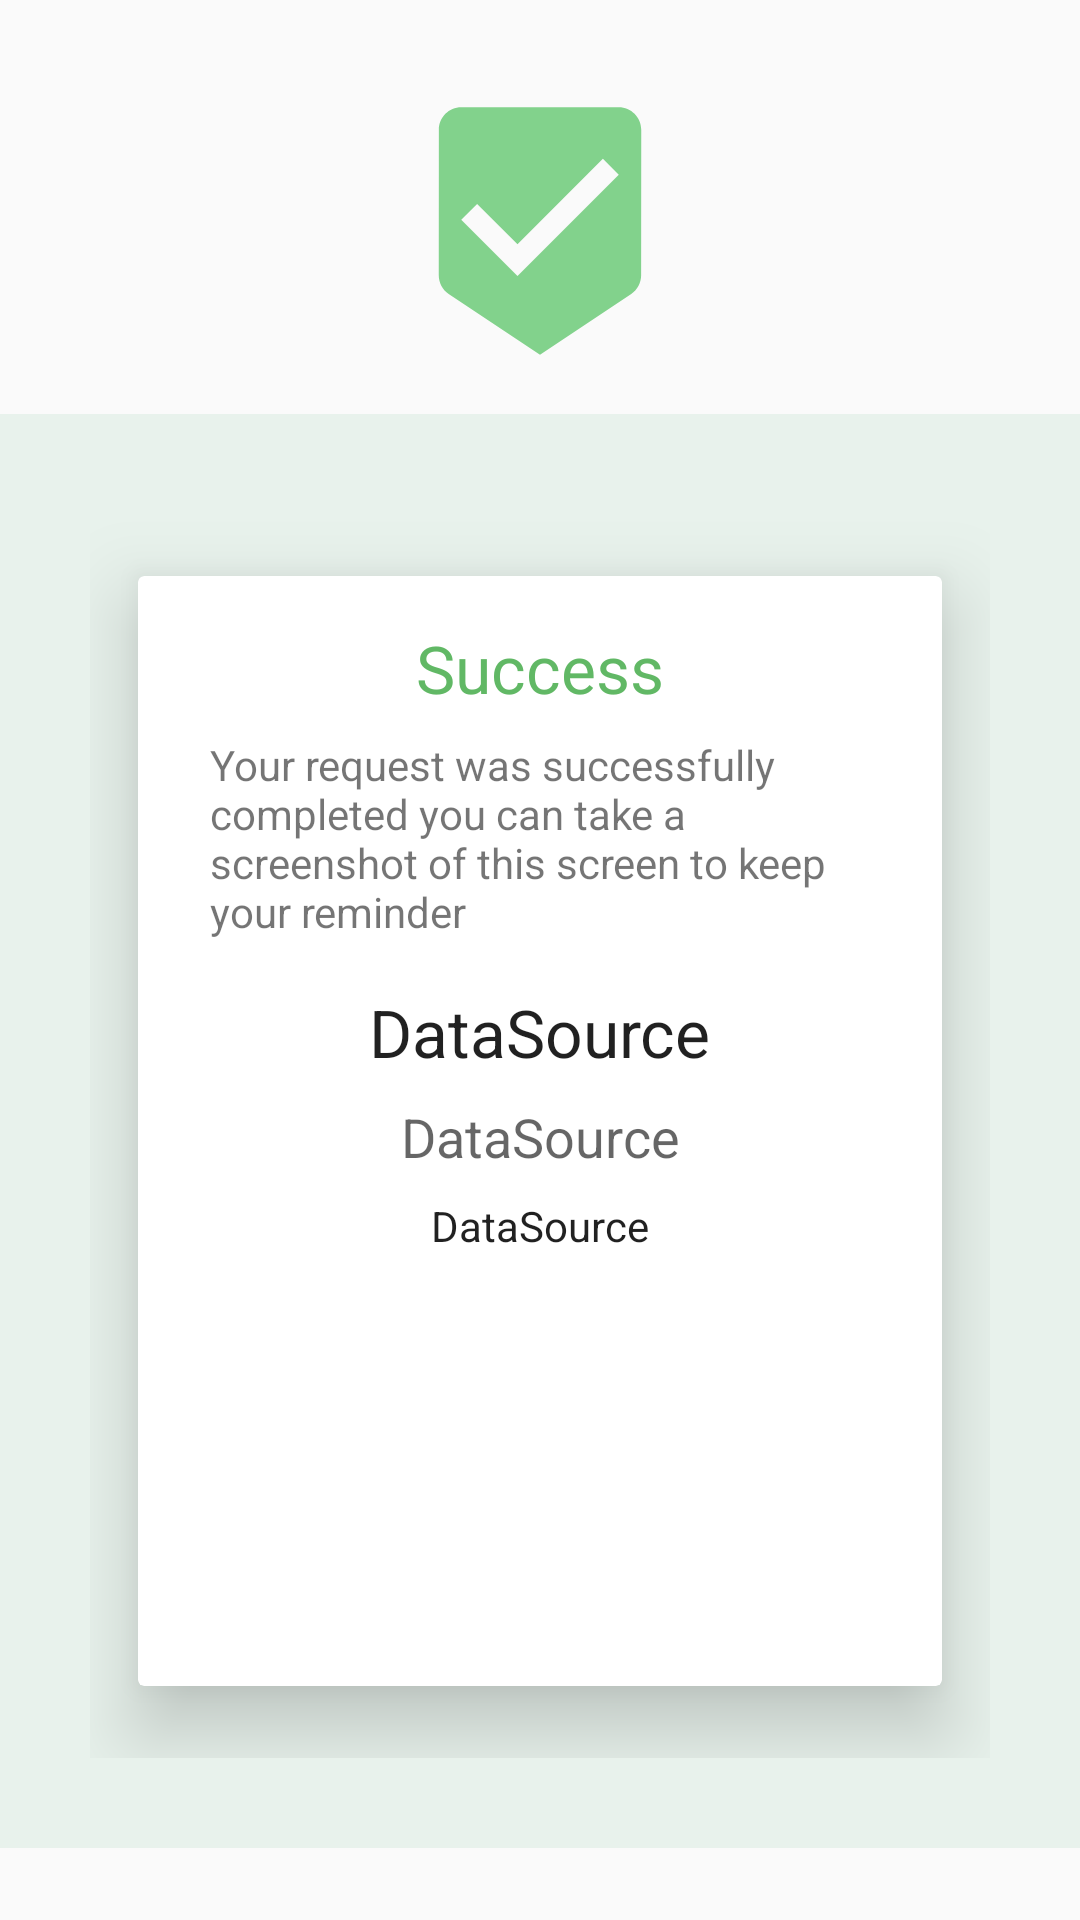

Where icons sit on this 1080 x 1920 app screen, as {"x1": x1, "y1": y1, "x2": x2, "y2": y2}:
beenhere: {"x1": 438, "y1": 107, "x2": 642, "y2": 355}
